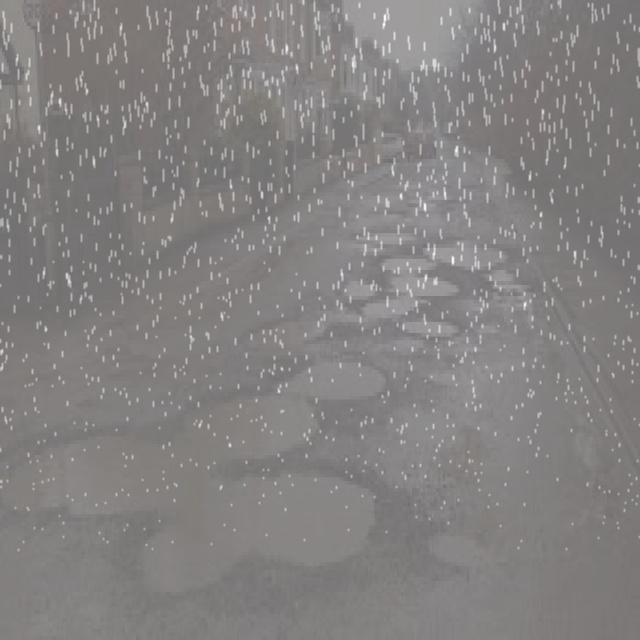Pothole: (14, 349, 394, 602), (241, 292, 341, 353), (333, 272, 420, 333), (373, 248, 469, 298), (343, 209, 439, 254), (419, 516, 497, 570), (494, 265, 541, 334), (434, 233, 510, 274), (396, 310, 468, 347), (418, 175, 486, 213)
